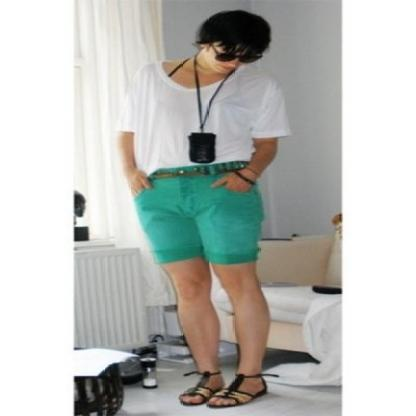shirt: (122, 65, 295, 174)
shoe: (187, 374, 261, 407)
shorts: (134, 161, 264, 265)
sunglass: (215, 44, 258, 62)
